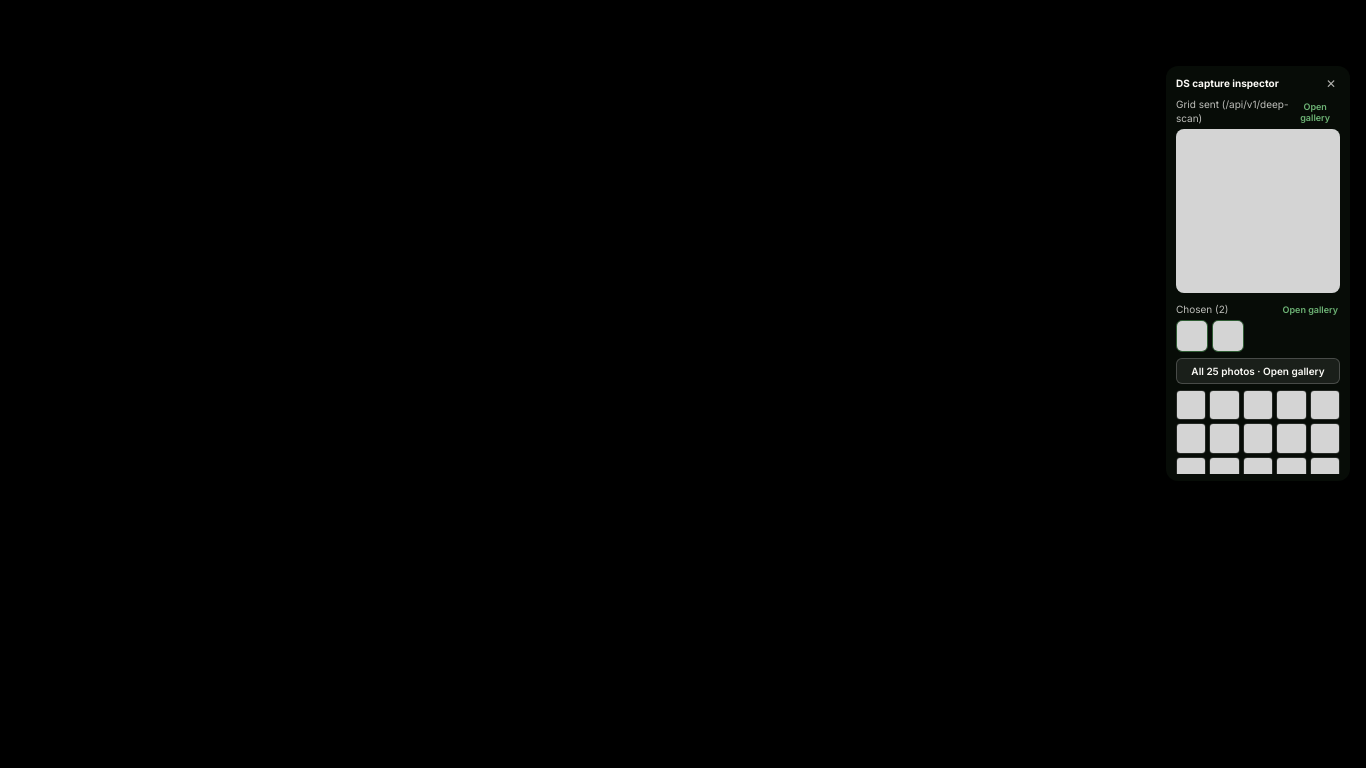
Test case: DeepScanCaptureInspector › allows switching between Chosen, All, and Grid tabs inside the gallery
Open in All mode
Click the button with test id "ds-inspector-open-gallery" at coordinates (1258, 371), box [1176,358,1340,384]
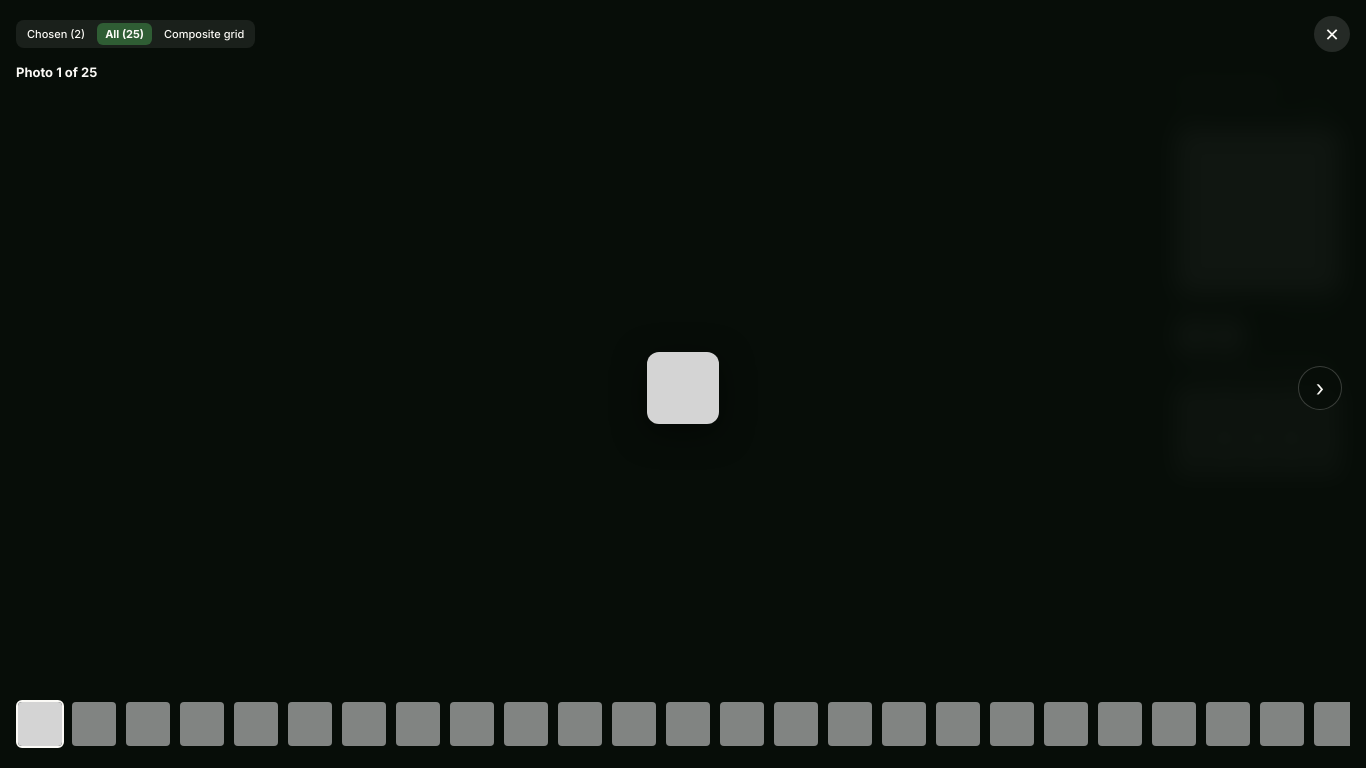
Now the text with test id "ds-gallery-title" reads "Photo 1 of 25", box [16,64,97,80]
Switch to Chosen tab
Click the button with test id "ds-gallery-tab-chosen" at coordinates (56, 34), box [19,23,93,45]
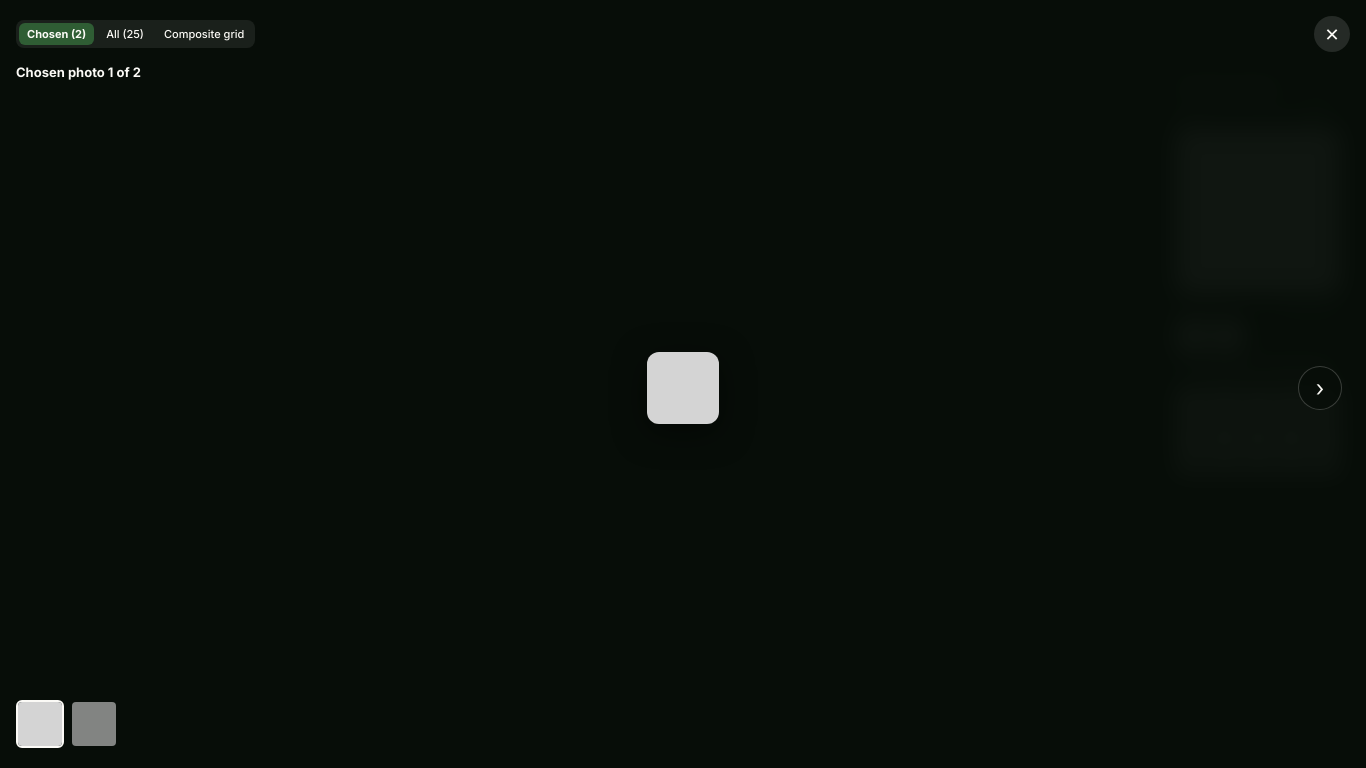
Now the text with test id "ds-gallery-title" reads "Chosen photo 1 of 2", box [16,64,141,80]
Switch to Grid tab
Click the button with test id "ds-gallery-tab-grid" at coordinates (204, 34), box [156,23,252,45]
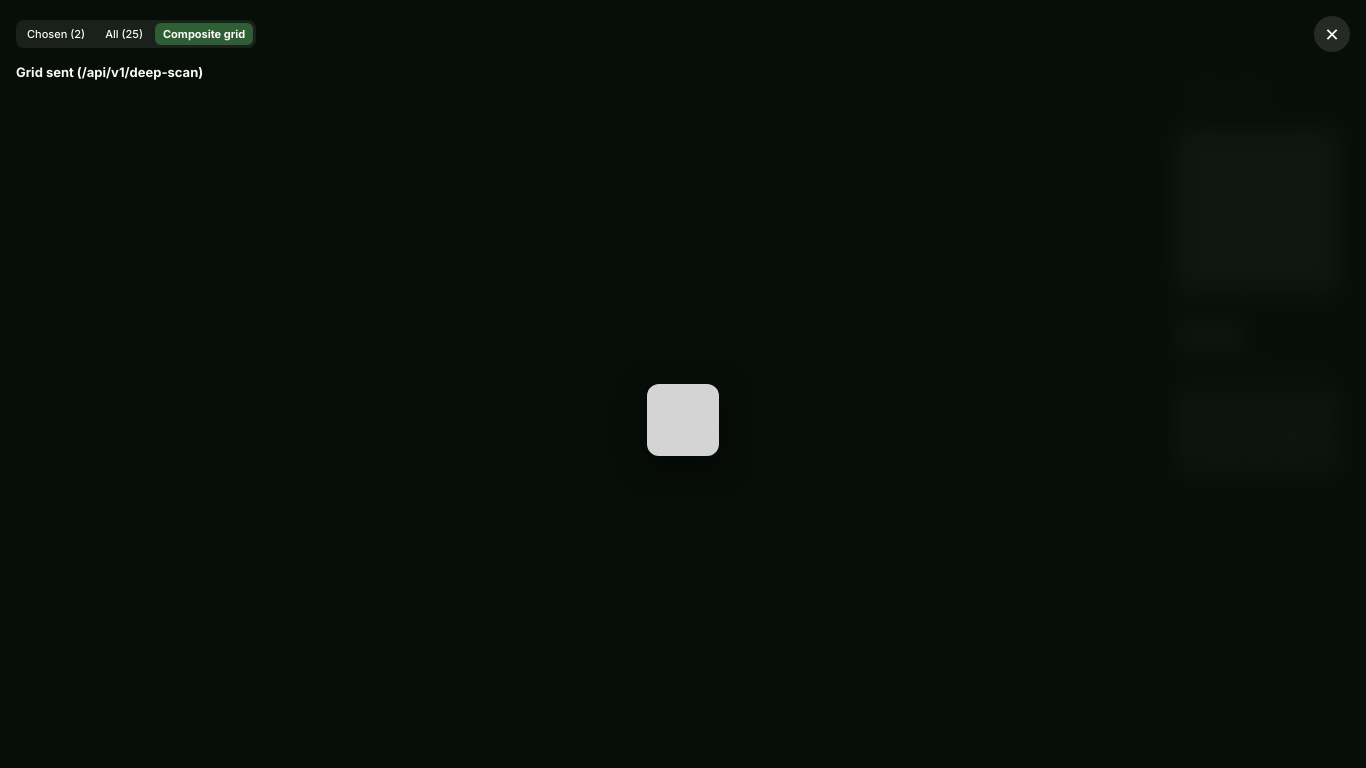
Now the text with test id "ds-gallery-title" reads "Grid sent (/api/v1/deep-scan)", box [16,64,203,80]
Switch back to All tab
Click the button with test id "ds-gallery-tab-all" at coordinates (124, 34), box [97,23,151,45]
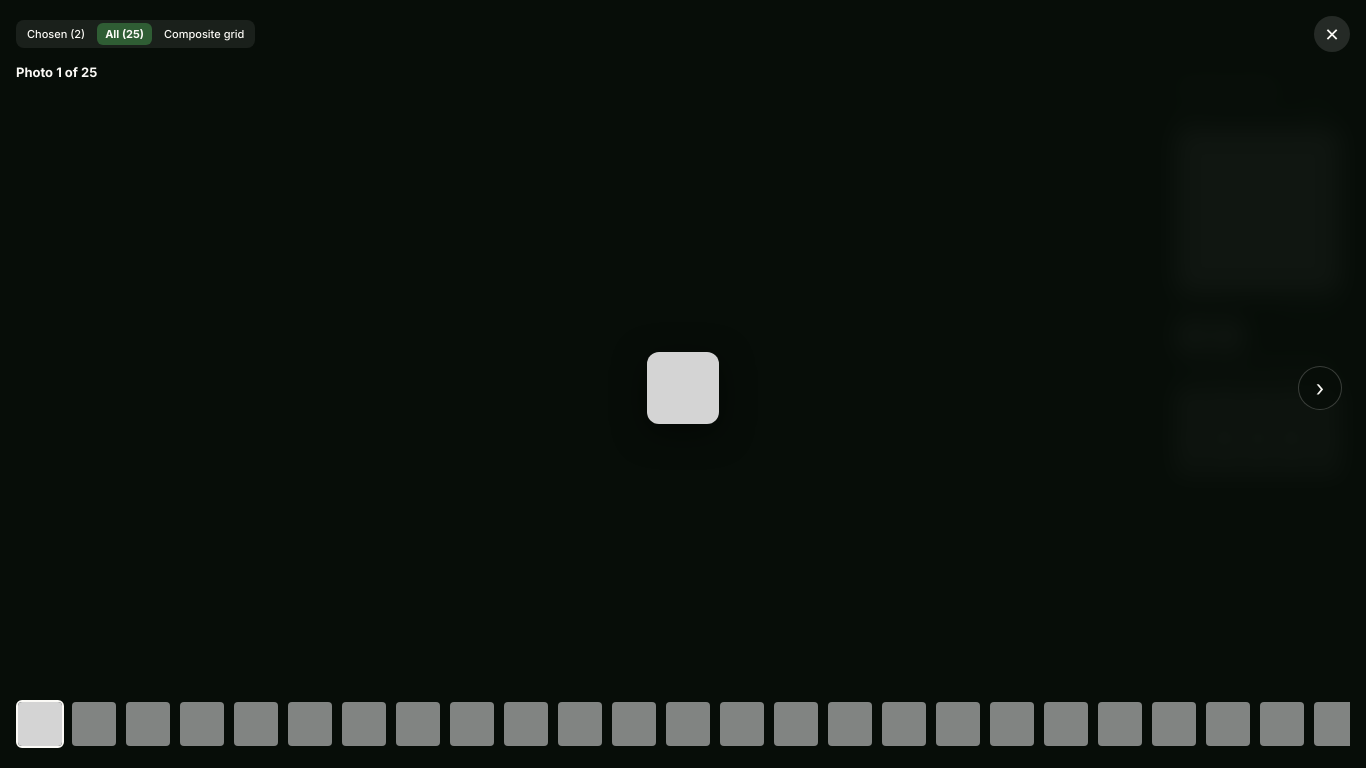
Now the text with test id "ds-gallery-title" reads "Photo 1 of 25", box [16,64,97,80]
